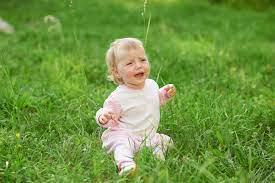child: (84, 33, 179, 176)
